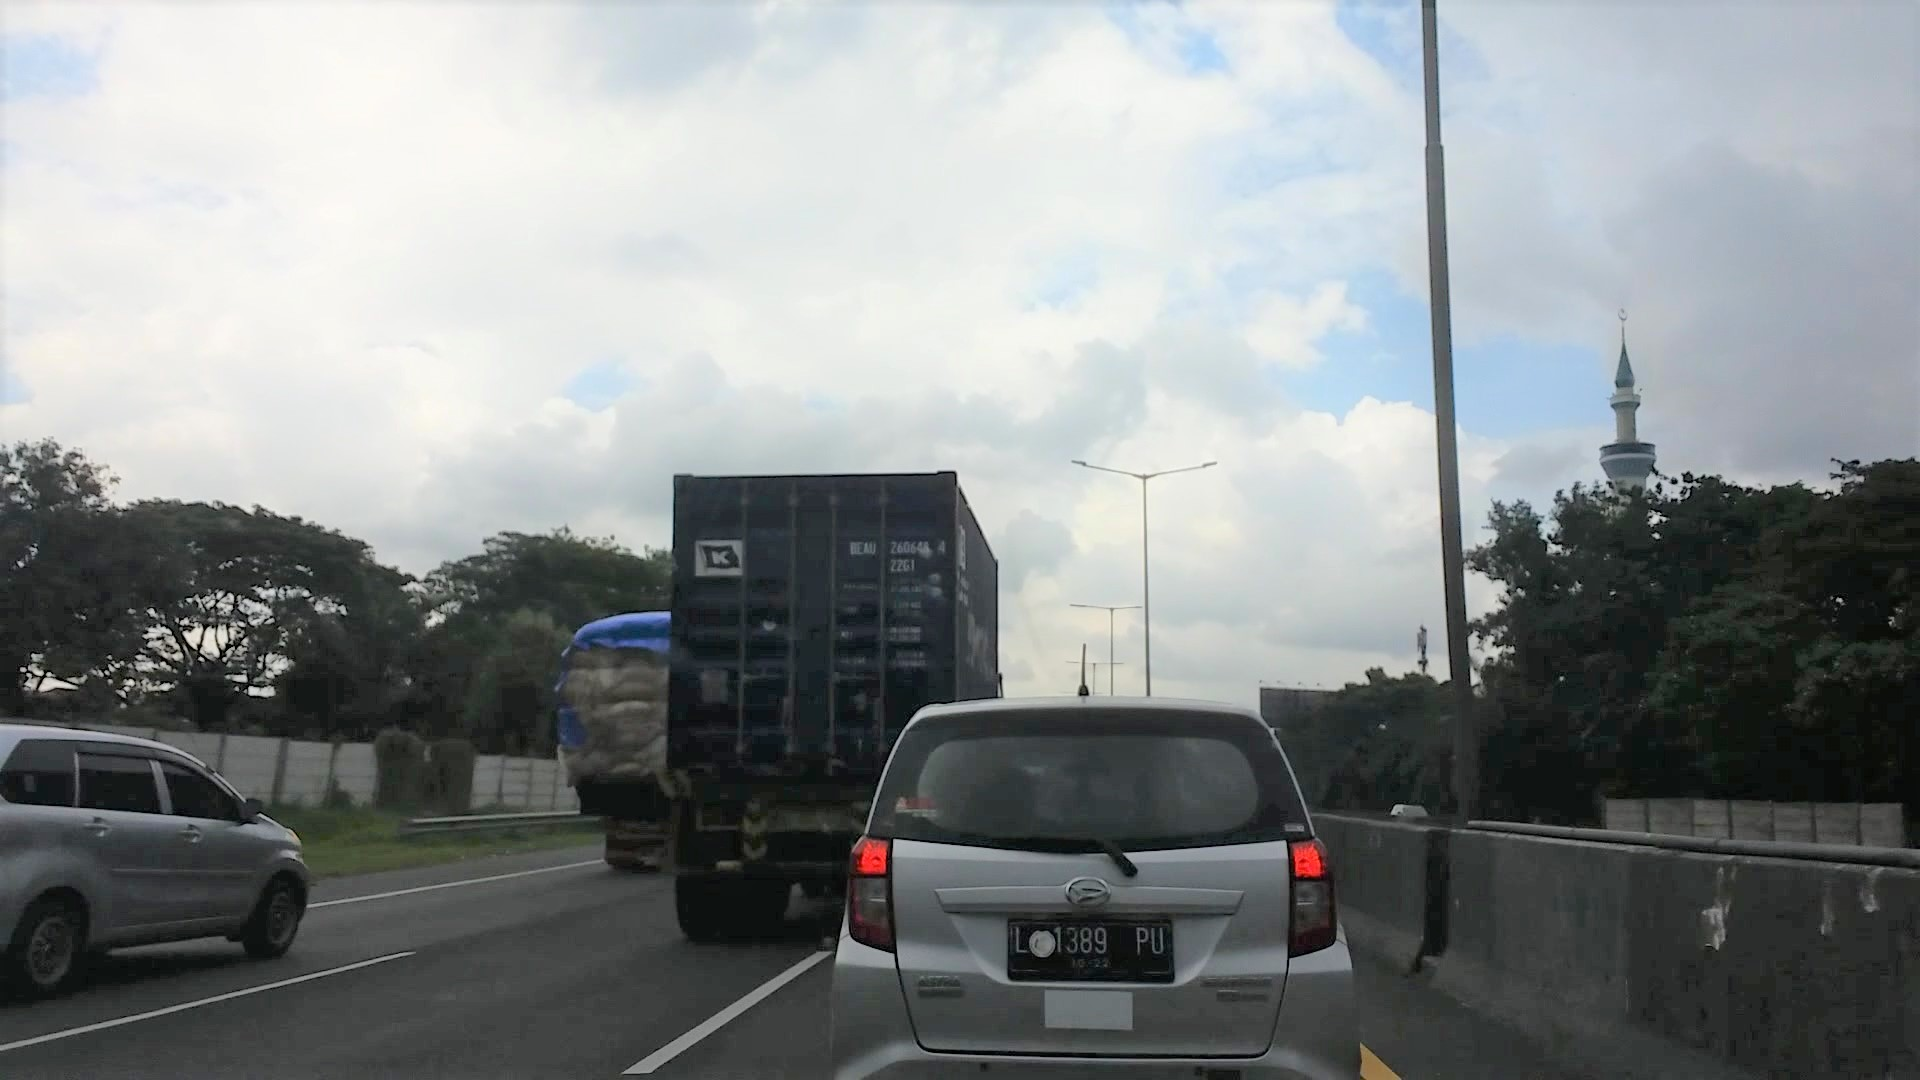plate_positive: (1007, 916, 1175, 982)
